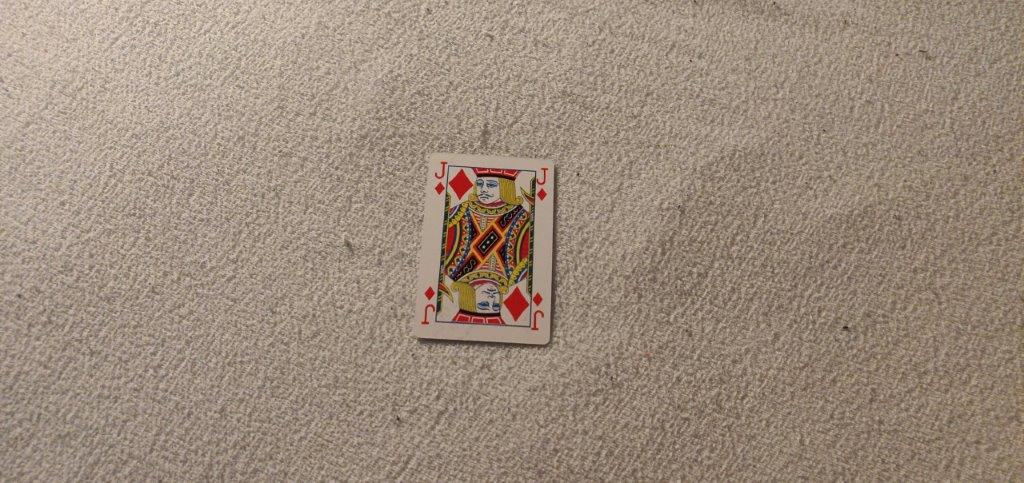JD: (531, 163, 553, 205), (429, 160, 450, 198)
